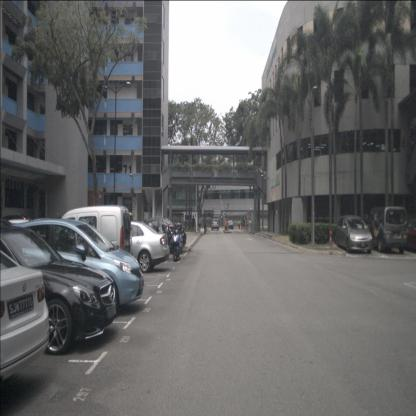human-pedestrian-adult: (40, 204, 46, 231), (204, 216, 208, 234), (198, 216, 201, 233), (192, 215, 195, 231), (238, 218, 240, 230), (241, 218, 243, 229), (246, 218, 248, 229), (243, 218, 245, 229), (247, 219, 249, 228)
vehicle-car: (1, 226, 116, 356), (1, 218, 144, 319), (0, 249, 50, 382), (45, 206, 132, 282), (90, 219, 168, 274), (365, 206, 409, 254), (140, 217, 186, 254), (335, 214, 373, 254), (212, 219, 219, 231), (226, 220, 234, 230)
vehicle-motorcycle: (170, 221, 183, 262), (160, 225, 171, 259)
